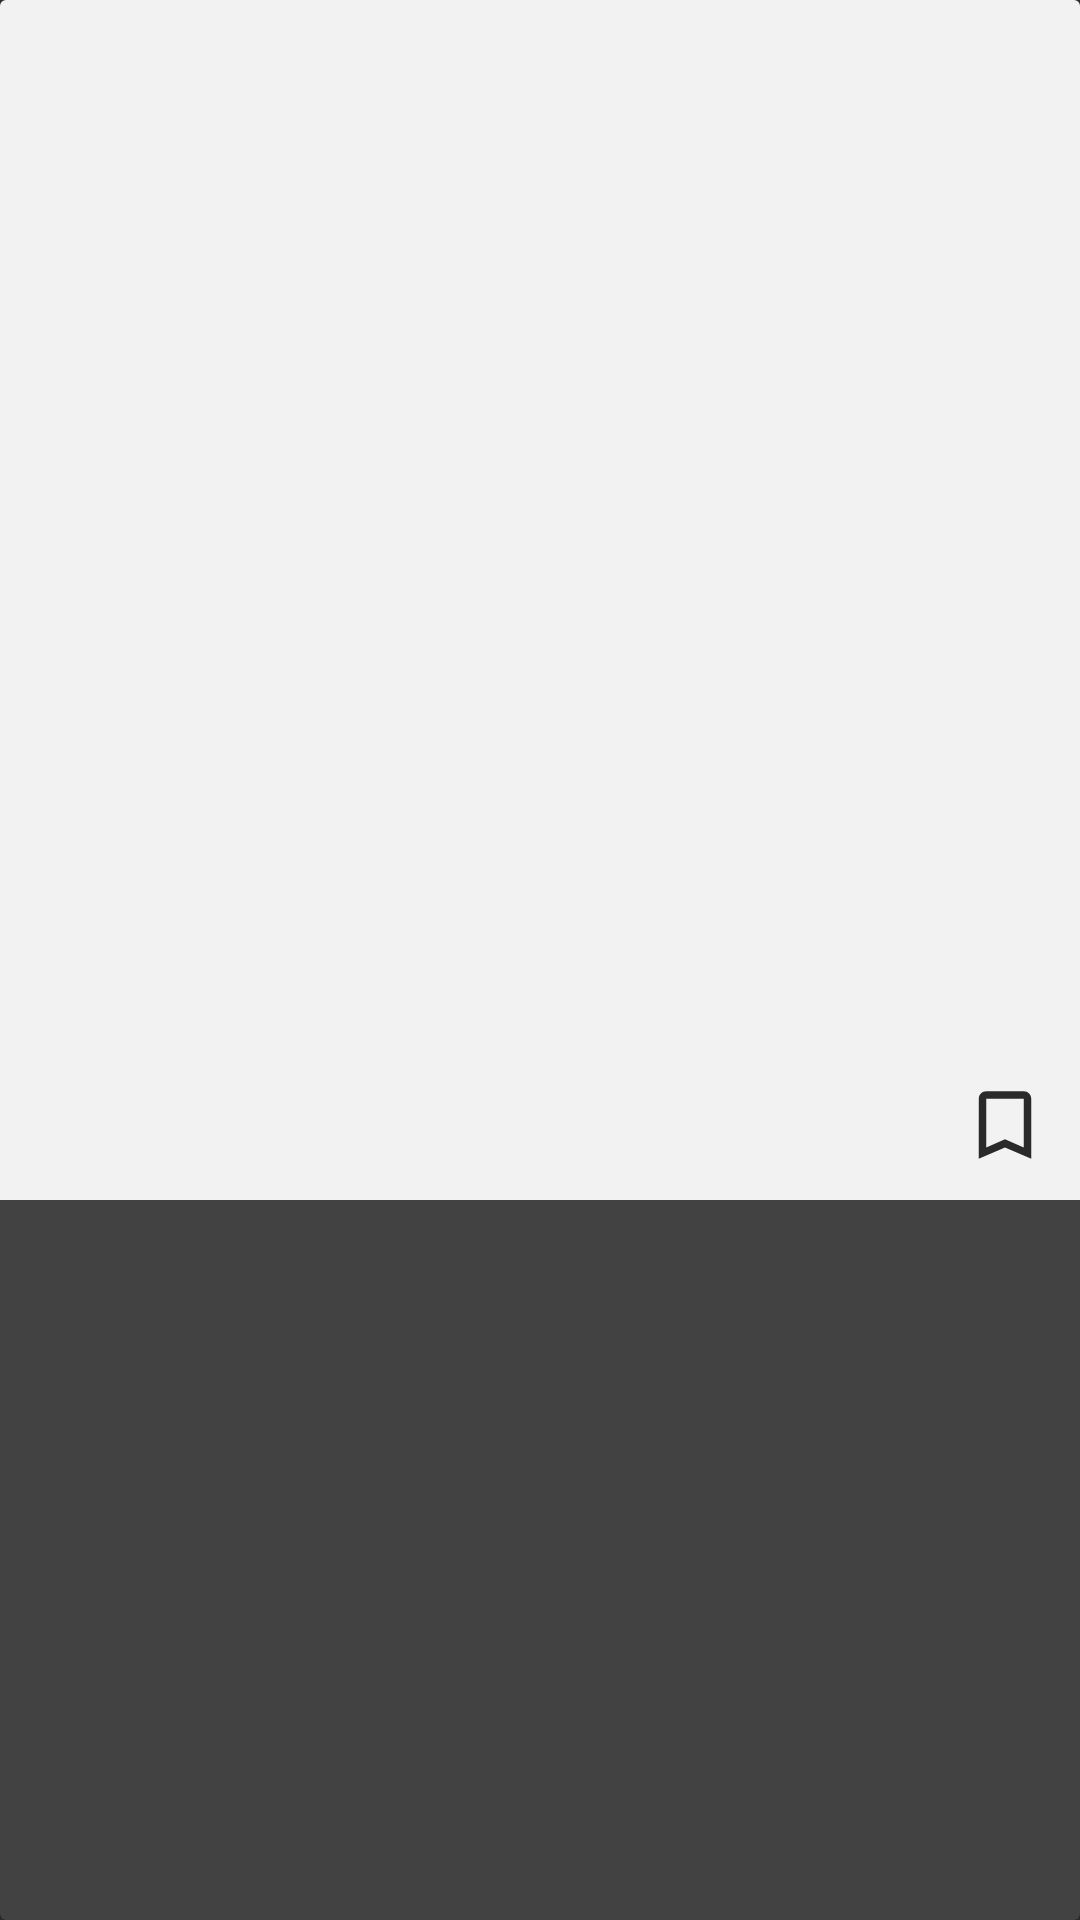

Screen size 1080px x 1920px. Icon name, then its box in pixels as (x1, y1, x2, y2):
Bookmark: (978, 1091, 1032, 1159)
